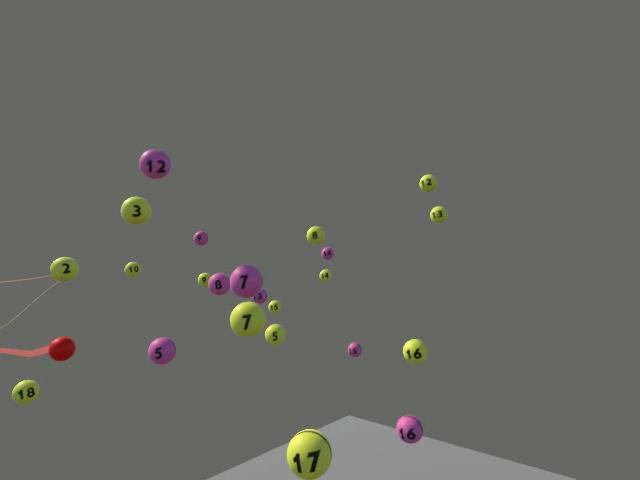ball_02_yellow: (50, 255, 78, 280)
ball_03_yellow: (120, 196, 151, 224)
ball_05_pink: (147, 337, 175, 364)
ball_05_yellow: (264, 324, 284, 345)
ball_06_pink: (207, 273, 229, 295)
ball_07_pink: (230, 264, 263, 298)
ball_07_yellow: (229, 301, 265, 337)
ball_08_yellow: (306, 225, 324, 244)
ball_09_pink: (193, 230, 208, 245)
ball_09_yellow: (197, 272, 210, 286)
ball_10_yellow: (124, 261, 141, 278)
ball_12_pink: (139, 149, 169, 179)
ball_12_yellow: (418, 173, 436, 192)
ball_13_yellow: (429, 205, 447, 223)
ball_14_pink: (321, 246, 333, 259)
ball_14_yellow: (318, 268, 331, 281)
ball_15_pink: (347, 341, 362, 357)
ball_15_yellow: (268, 299, 280, 312)
ball_16_pink: (396, 415, 423, 443)
ball_16_yellow: (402, 338, 427, 363)
ball_17_yellow: (285, 429, 332, 478)
ball_18_yellow: (11, 379, 40, 404)
ball_unknown: (252, 288, 267, 303)
user_cursor: (48, 336, 75, 361)
